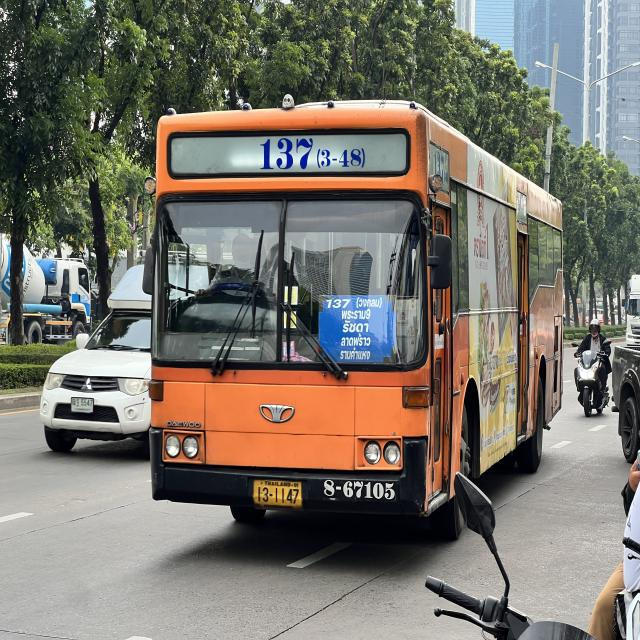BMTA-bus: (138, 77, 568, 549)
Bus-Line-Number: (248, 137, 371, 171)
Destination-Sign-Normal: (318, 292, 396, 366)
